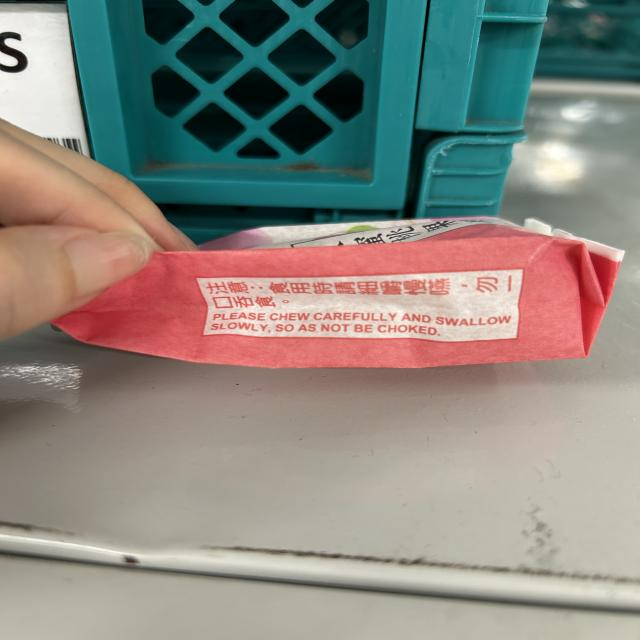object_name: (121, 235, 593, 362)
